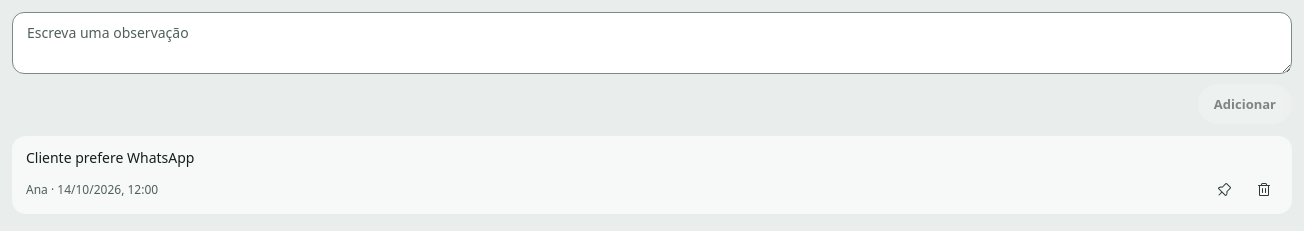
Test case: NotesList › pins a note with updateNote
Click the button named "Fixar observação" at point(1224, 190), box [1204, 170, 1244, 210]
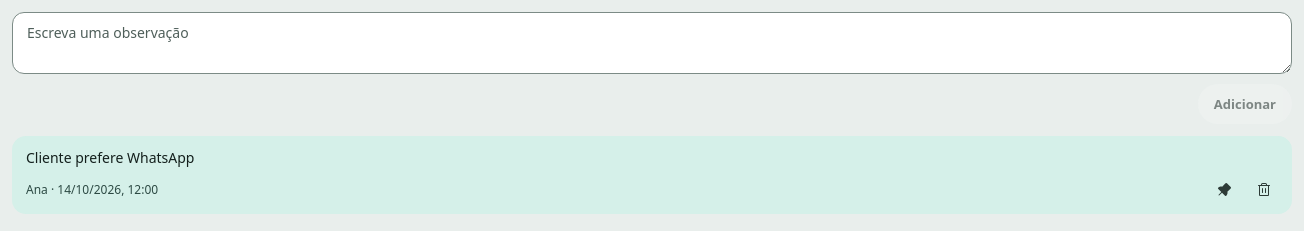
Now the button named "Desafixar observação" is shown, box [1204, 170, 1244, 210]
